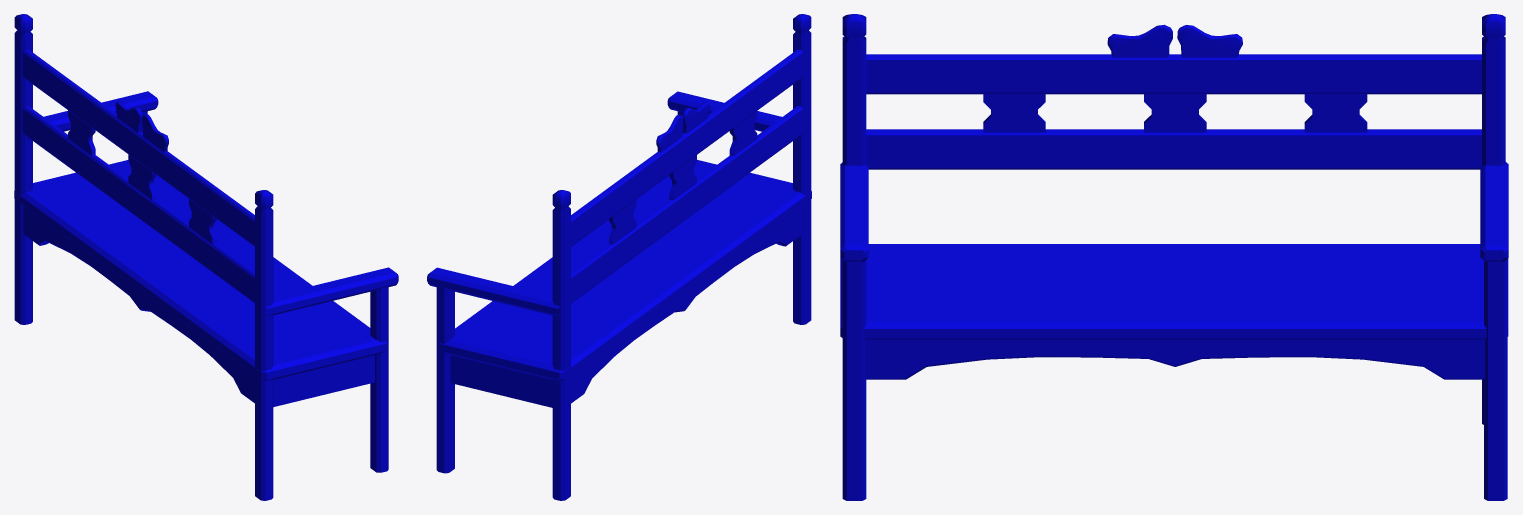
The model's file is Bench_2.fbx.
3 views of the same model, side by side, from view 1: azimuth 30°, elevation 25°; view 2: azimuth 150°, elevation 25°; view 3: azimuth 270°, elevation 25° (orthographic). The views are drawn at different scales.
Visible parts, largest first — view 1: pCube11; view 2: pCube11; view 3: pCube11.
Part boxes in pixels (left/top/right/bottom): pCube11: left=14, top=14, right=398, bottom=500; pCube11: left=427, top=14, right=811, bottom=500; pCube11: left=840, top=14, right=1508, bottom=500.
Bounding box in the file's own units: 32.74 × 69.83 × 104.
